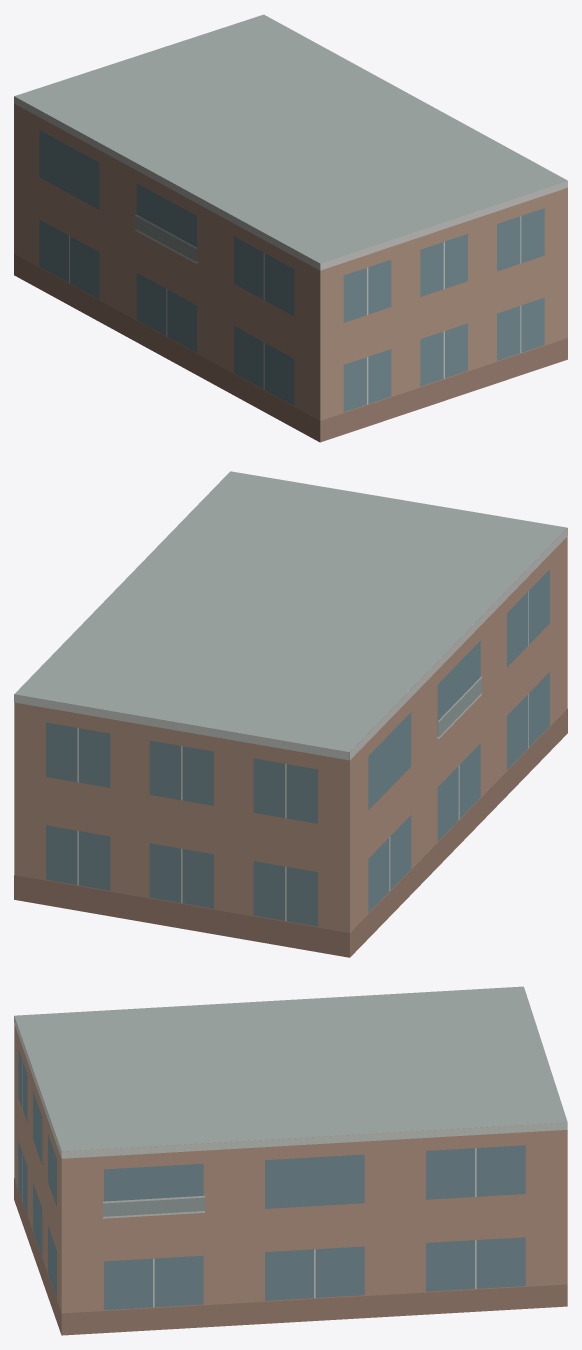
The model's file is survey-upis-32880411.glb.
3 renders of one model, top to bottom at view 1: azimuth 30°, elevation 25°; view 2: azimuth 150°, elevation 25°; view 3: azimuth 270°, elevation 25°, orthographic. The views are drawn at different scales.
Visible parts, largest first — view 1: survey-upis-32880411.tmp; view 2: survey-upis-32880411.tmp; view 3: survey-upis-32880411.tmp.
Part boxes in pixels (x1,y1,x2,y2): survey-upis-32880411.tmp: (14,14,567,442); survey-upis-32880411.tmp: (14,471,567,957); survey-upis-32880411.tmp: (14,986,567,1335).
Bounding box in the file's own units: 11.74 × 6.1 × 16.65.
